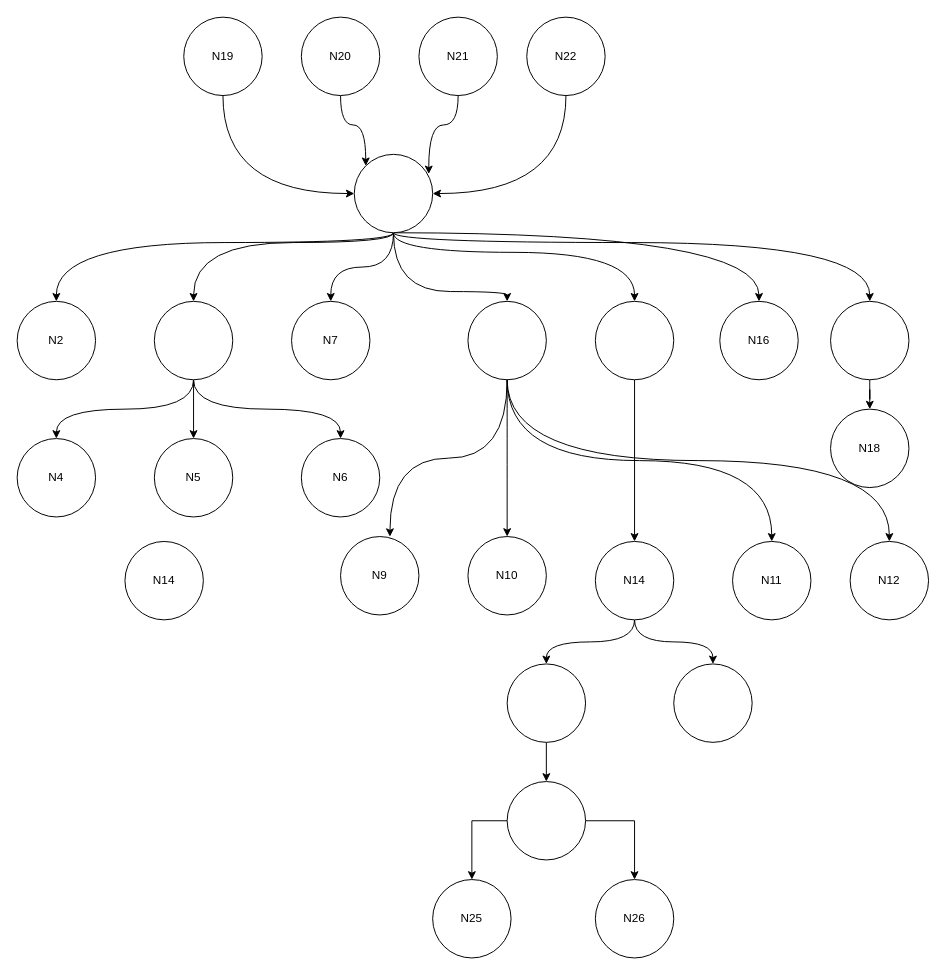
The diagram is 946 pixels wide and 975 high, and some of its shapes have lost their labels. Each missing label, with the centre of its shape:
"N1" goes at pixel 393 193.
"N13" goes at pixel 634 340.
"N15" goes at pixel 712 702.
"N17" goes at pixel 869 340.
"N23" goes at pixel 546 702.
"N24" goes at pixel 546 820.
"N3" goes at pixel 193 340.
"N8" goes at pixel 506 340.
